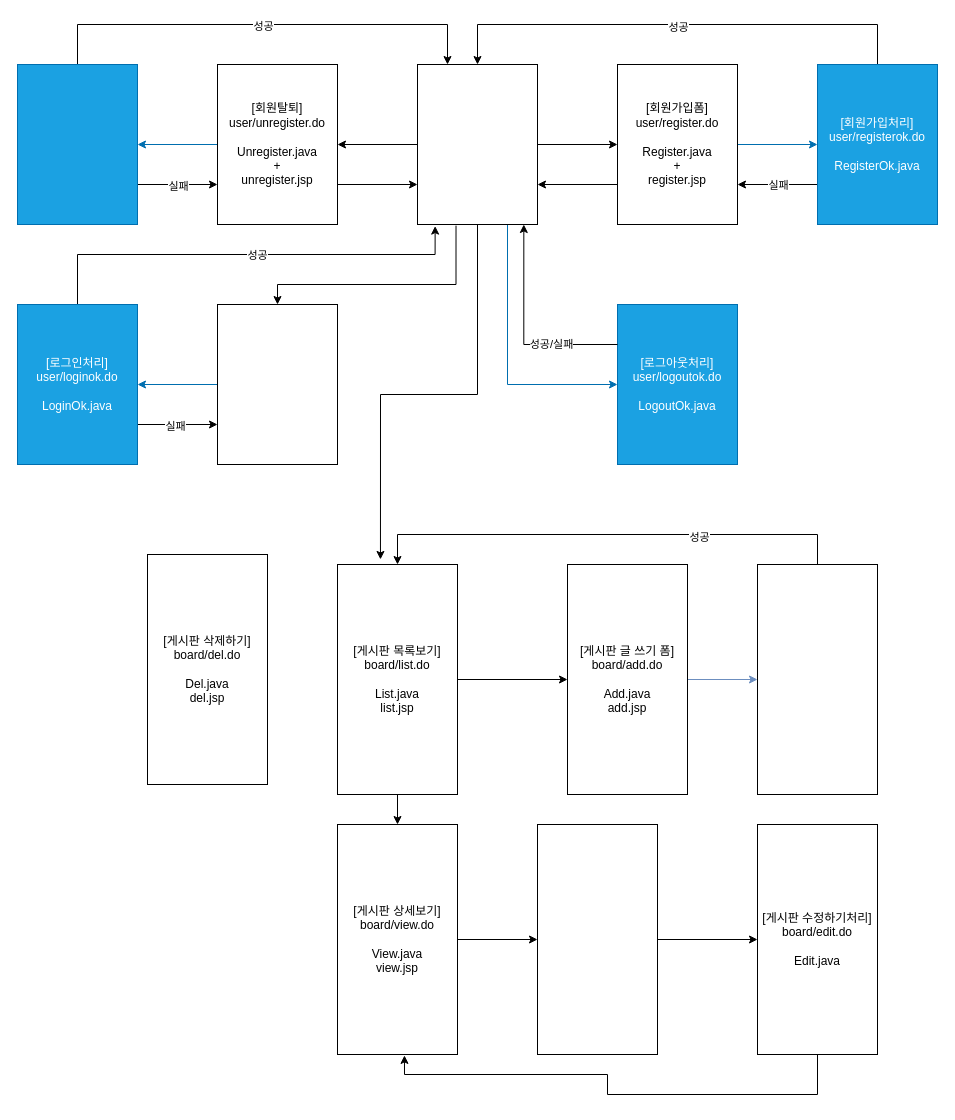
Some shapes in this 955 by 1120 pixel diagram are drawn without their labels. Here are the shapes that lost their labels. From the top down, the centre of each, then its label:
pixel 77 144: [회원탈퇴처리] user/unregisterok.do UnRegisterOk.java
pixel 477 144: [시작] index.do Index.java + index.jsp
pixel 277 384: [로그인폼] user/login.do Login.java + login.jsp
pixel 817 679: [게시판 글 쓰기 처리] board/add.do Add.java
pixel 597 939: [게시판 수정하기폼] board/edit.do Edit.java edit.jsp
